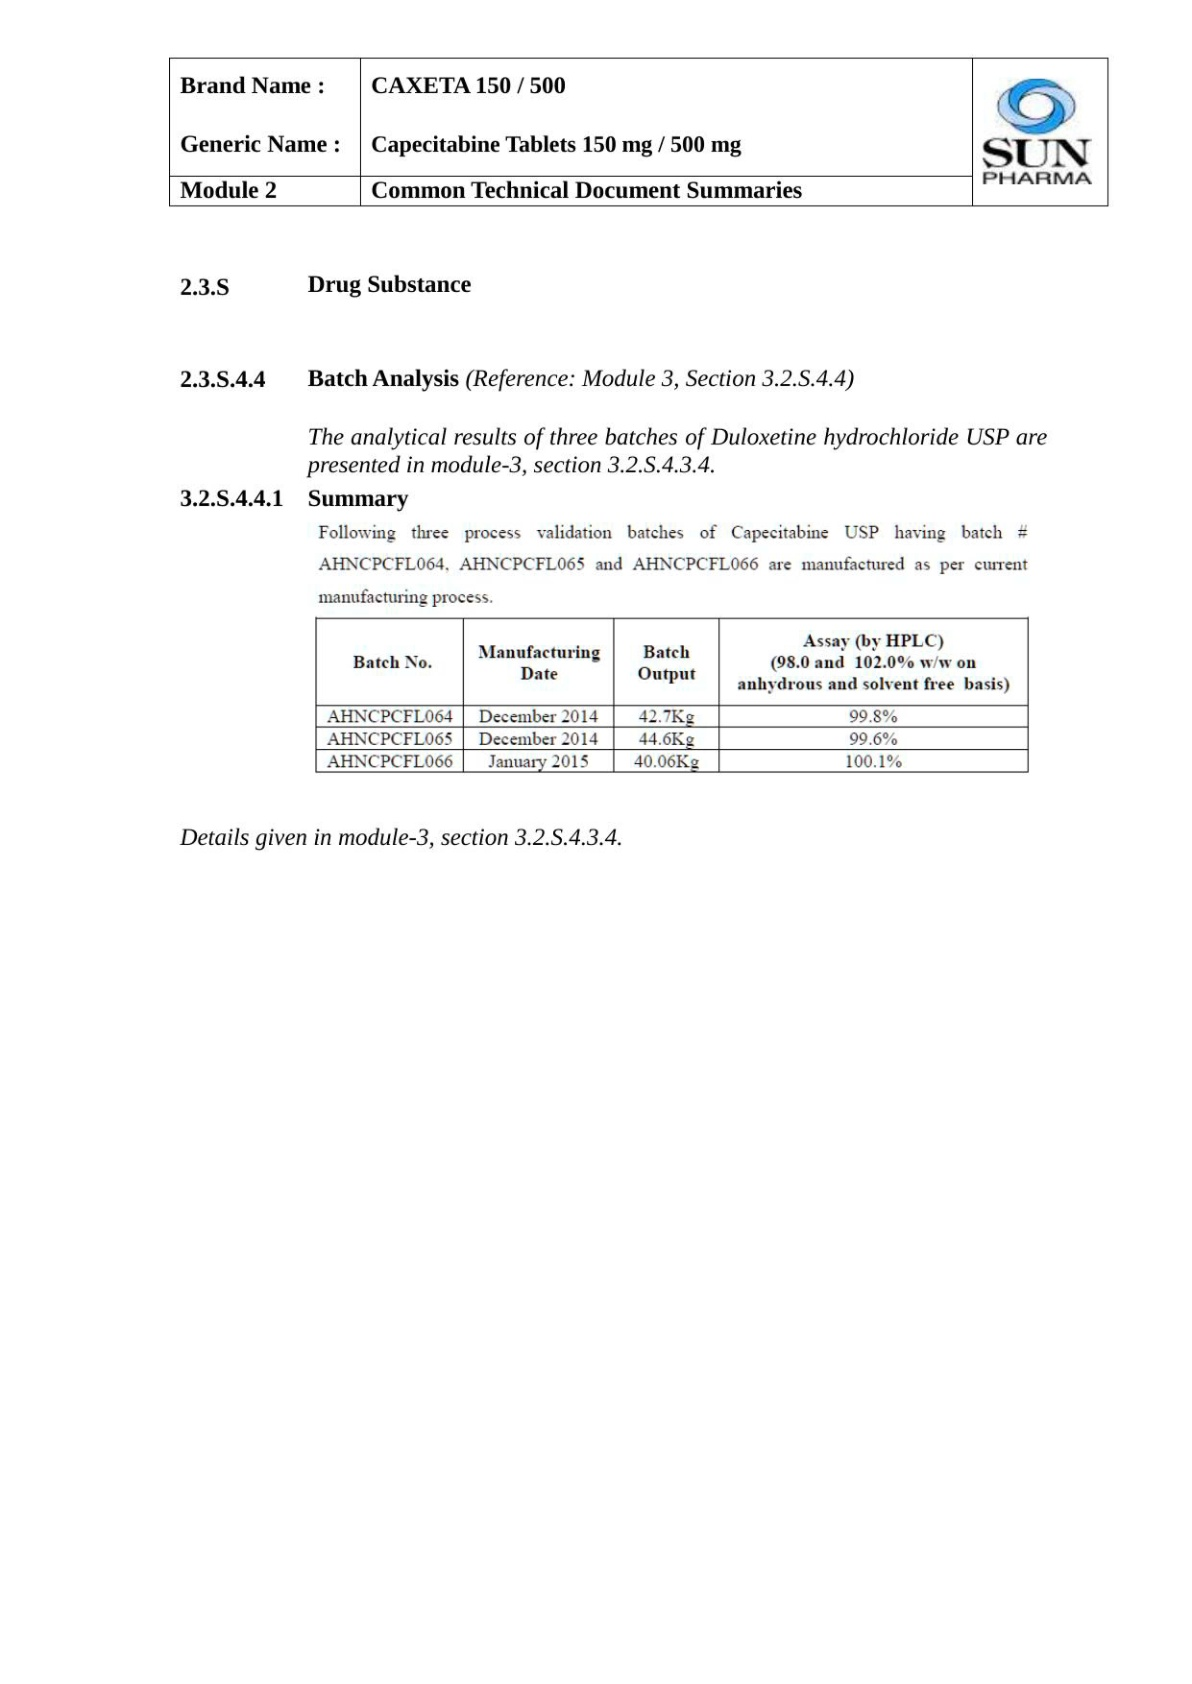full_lined: (313, 616, 1029, 772)
merged_cells: (168, 55, 1109, 208)
